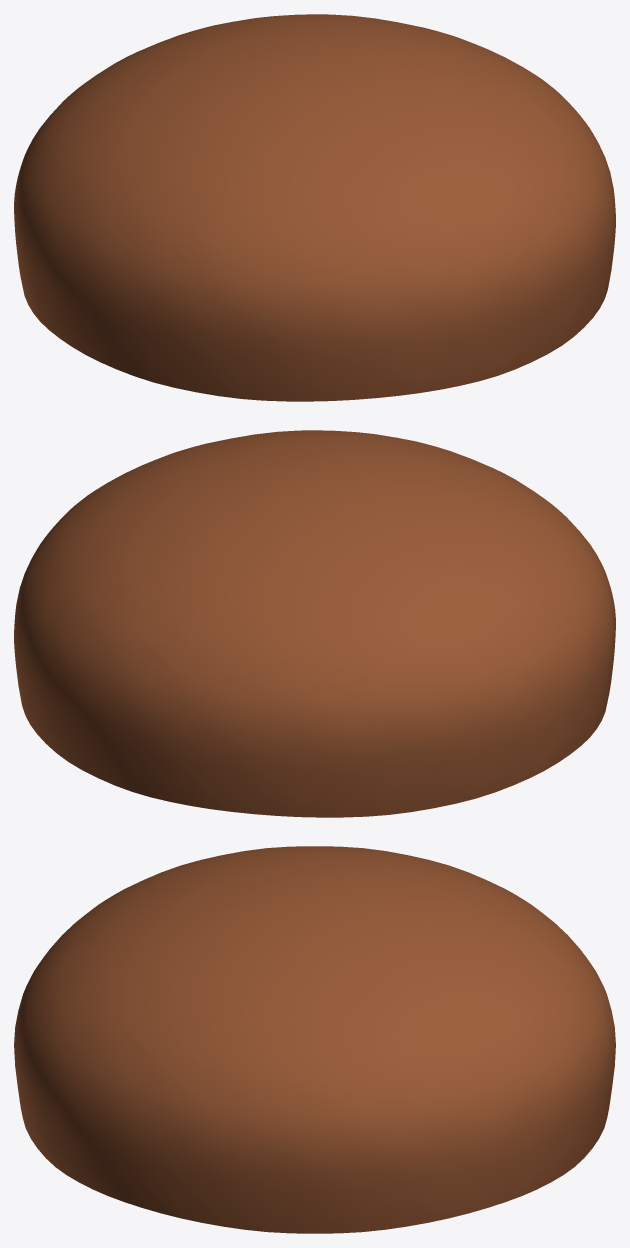
The model's file is chocolateFountain.glb.
3 renders of one model, top to bottom at view 1: azimuth 30°, elevation 25°; view 2: azimuth 150°, elevation 25°; view 3: azimuth 270°, elevation 25°, orthographic.
Parts seen in each view (by area): view 1: chocolateFountain; view 2: chocolateFountain; view 3: chocolateFountain.
Part boxes in pixels (x1=…): chocolateFountain: x1=14, y1=14, x2=615, y2=401; chocolateFountain: x1=14, y1=430, x2=615, y2=817; chocolateFountain: x1=14, y1=846, x2=615, y2=1233.
Bounding box in the file's own units: 3.98 × 1.6 × 3.98.
